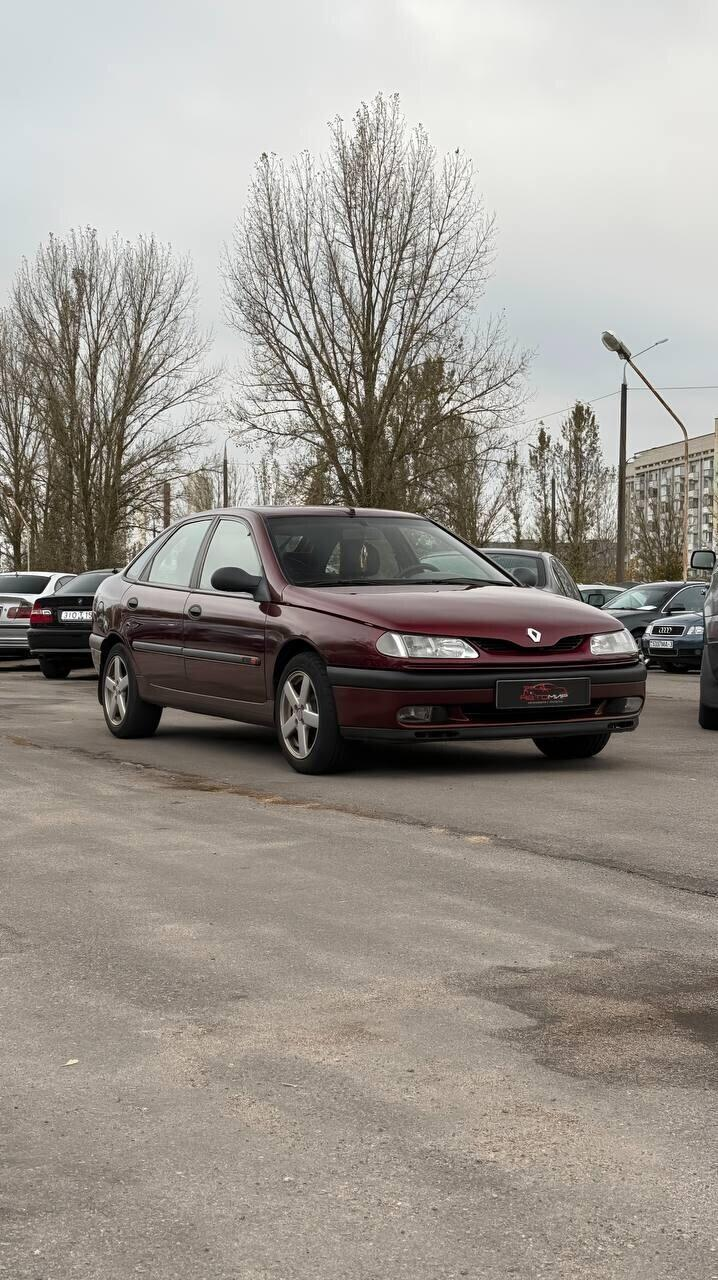Lahuna_1993-1999: (92, 497, 652, 793)
